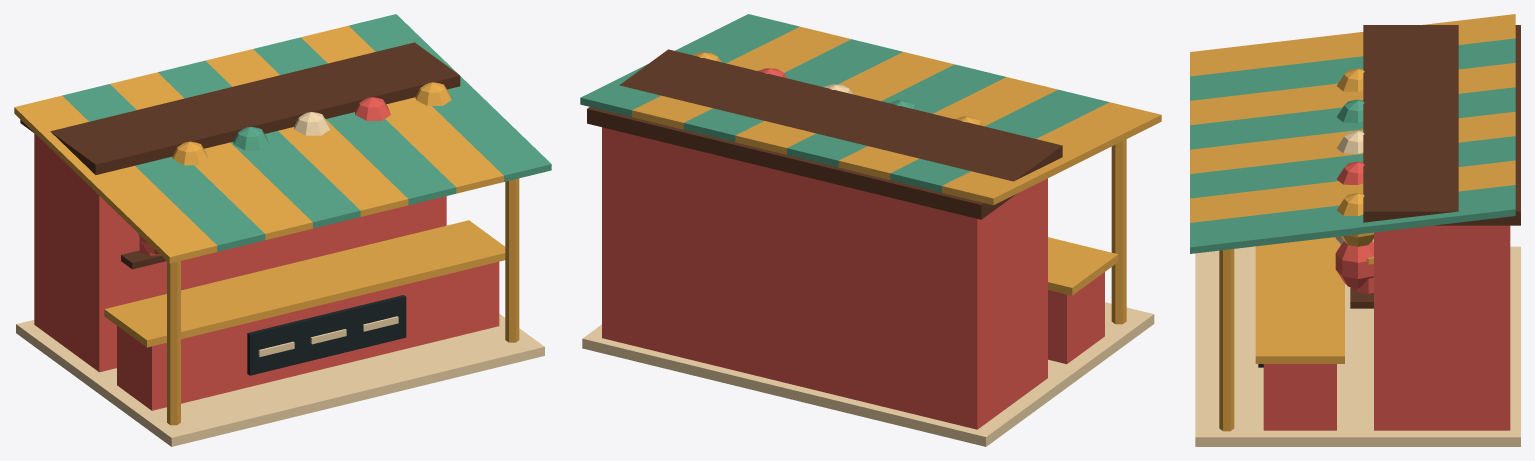
Rendered from ParkParkBoothDart.obj.
3 renders of one model, left to right at view 1: azimuth 30°, elevation 25°; view 2: azimuth 150°, elevation 25°; view 3: azimuth 270°, elevation 25°, orthographic. The views are drawn at different scales.
Visible parts, largest first — view 1: ParkParkBoothDart; view 2: ParkParkBoothDart; view 3: ParkParkBoothDart.
Part boxes in pixels (<box>): ParkParkBoothDart: <box>14,14,551,446</box>; ParkParkBoothDart: <box>580,14,1161,446</box>; ParkParkBoothDart: <box>1190,14,1520,446</box>.
Bounding box in the file's own units: 8.8 × 5.04 × 6.3.
